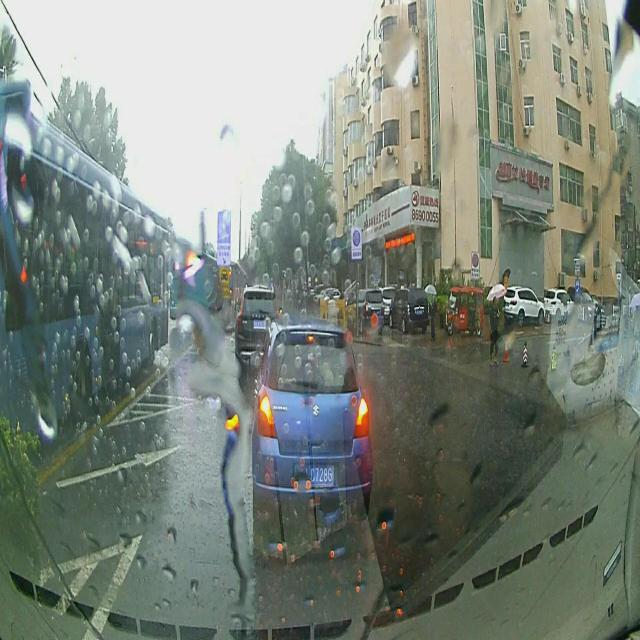car: (247, 314, 375, 534), (232, 280, 282, 365), (386, 284, 430, 336), (499, 284, 547, 324), (344, 286, 384, 334), (542, 286, 578, 322)
